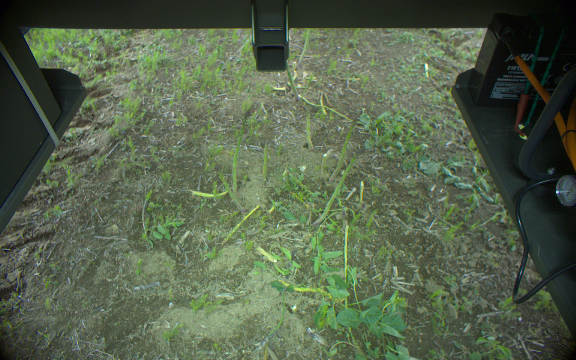aspa: (310, 154, 358, 231), (329, 113, 357, 184), (214, 170, 247, 216), (232, 110, 251, 188), (294, 27, 314, 72), (259, 130, 272, 185), (284, 63, 300, 104), (299, 105, 313, 151)
